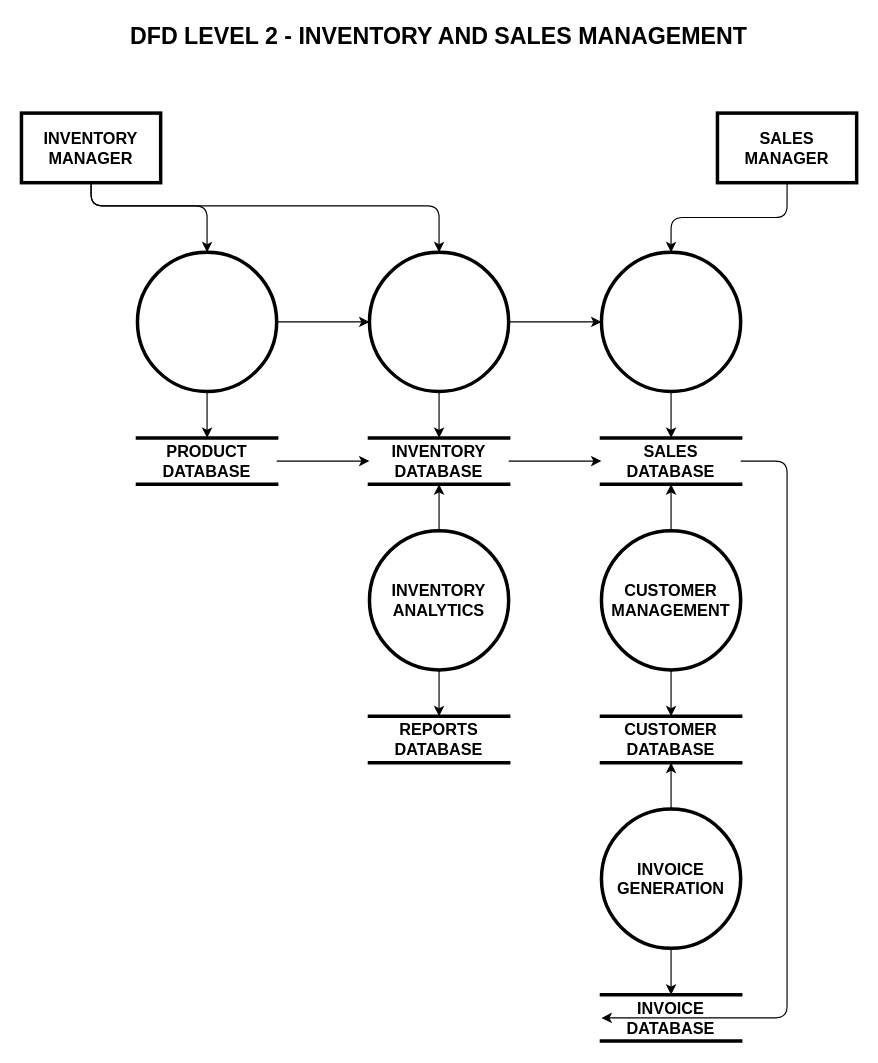
Image size: 878x1063. Some labels were removed from this diagram. Here are the shapes that lost their labels. From the top down, the centre of each, then its label:
At point (206, 321): "PRODUCT MANAGEMENT".
At point (438, 321): "INVENTORY TRACKING".
At point (670, 321): "SALES PROCESSING".
